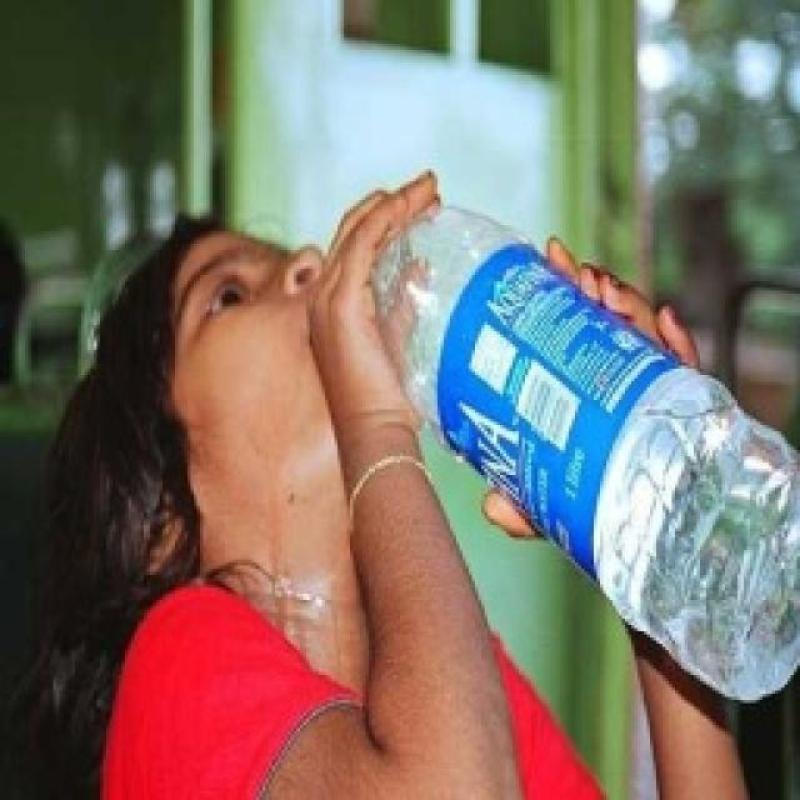botella: (369, 200, 800, 706)
